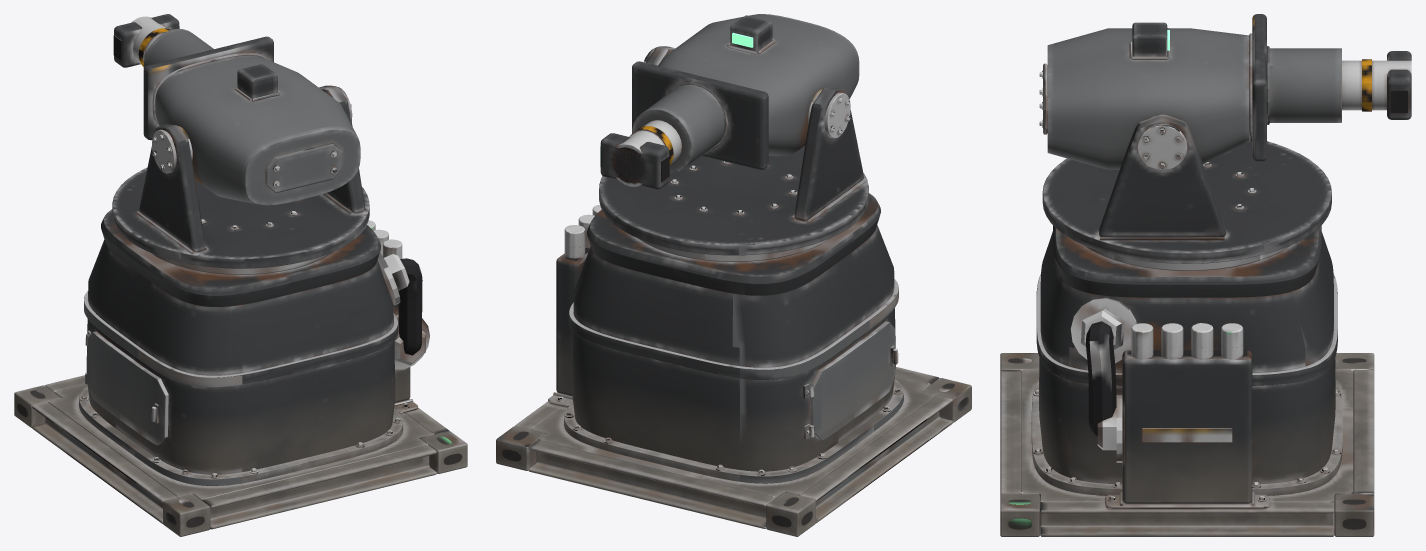
The model's file is SM_TurretCannon.glb.
3 renders of one model, left to right at view 1: azimuth 30°, elevation 25°; view 2: azimuth 150°, elevation 25°; view 3: azimuth 270°, elevation 25°, orthographic. The views are drawn at different scales.
Visible parts, largest first — view 1: SM_TurretCannon, SM_TurretCannon_Cradle, SM_TurretCannon_Head, SM_TurretCannon_Barrel; view 2: SM_TurretCannon, SM_TurretCannon_Cradle, SM_TurretCannon_Head, SM_TurretCannon_Barrel; view 3: SM_TurretCannon, SM_TurretCannon_Cradle, SM_TurretCannon_Head, SM_TurretCannon_Barrel.
Boxes of the visible parts, bbox=[...] form: SM_TurretCannon: bbox=[14, 209, 467, 536]; SM_TurretCannon_Cradle: bbox=[143, 29, 360, 205]; SM_TurretCannon_Head: bbox=[112, 85, 369, 268]; SM_TurretCannon_Barrel: bbox=[113, 14, 179, 67]; SM_TurretCannon: bbox=[496, 193, 971, 536]; SM_TurretCannon_Cradle: bbox=[632, 14, 859, 173]; SM_TurretCannon_Head: bbox=[599, 46, 868, 255]; SM_TurretCannon_Barrel: bbox=[600, 120, 681, 189]; SM_TurretCannon: bbox=[1000, 225, 1374, 536]; SM_TurretCannon_Cradle: bbox=[1039, 14, 1341, 169]; SM_TurretCannon_Head: bbox=[1042, 28, 1331, 263]; SM_TurretCannon_Barrel: bbox=[1342, 51, 1411, 119].
Bounding box in the file's own units: 1.57 × 1.9 × 1.65.
7 materials, 6 textured.
